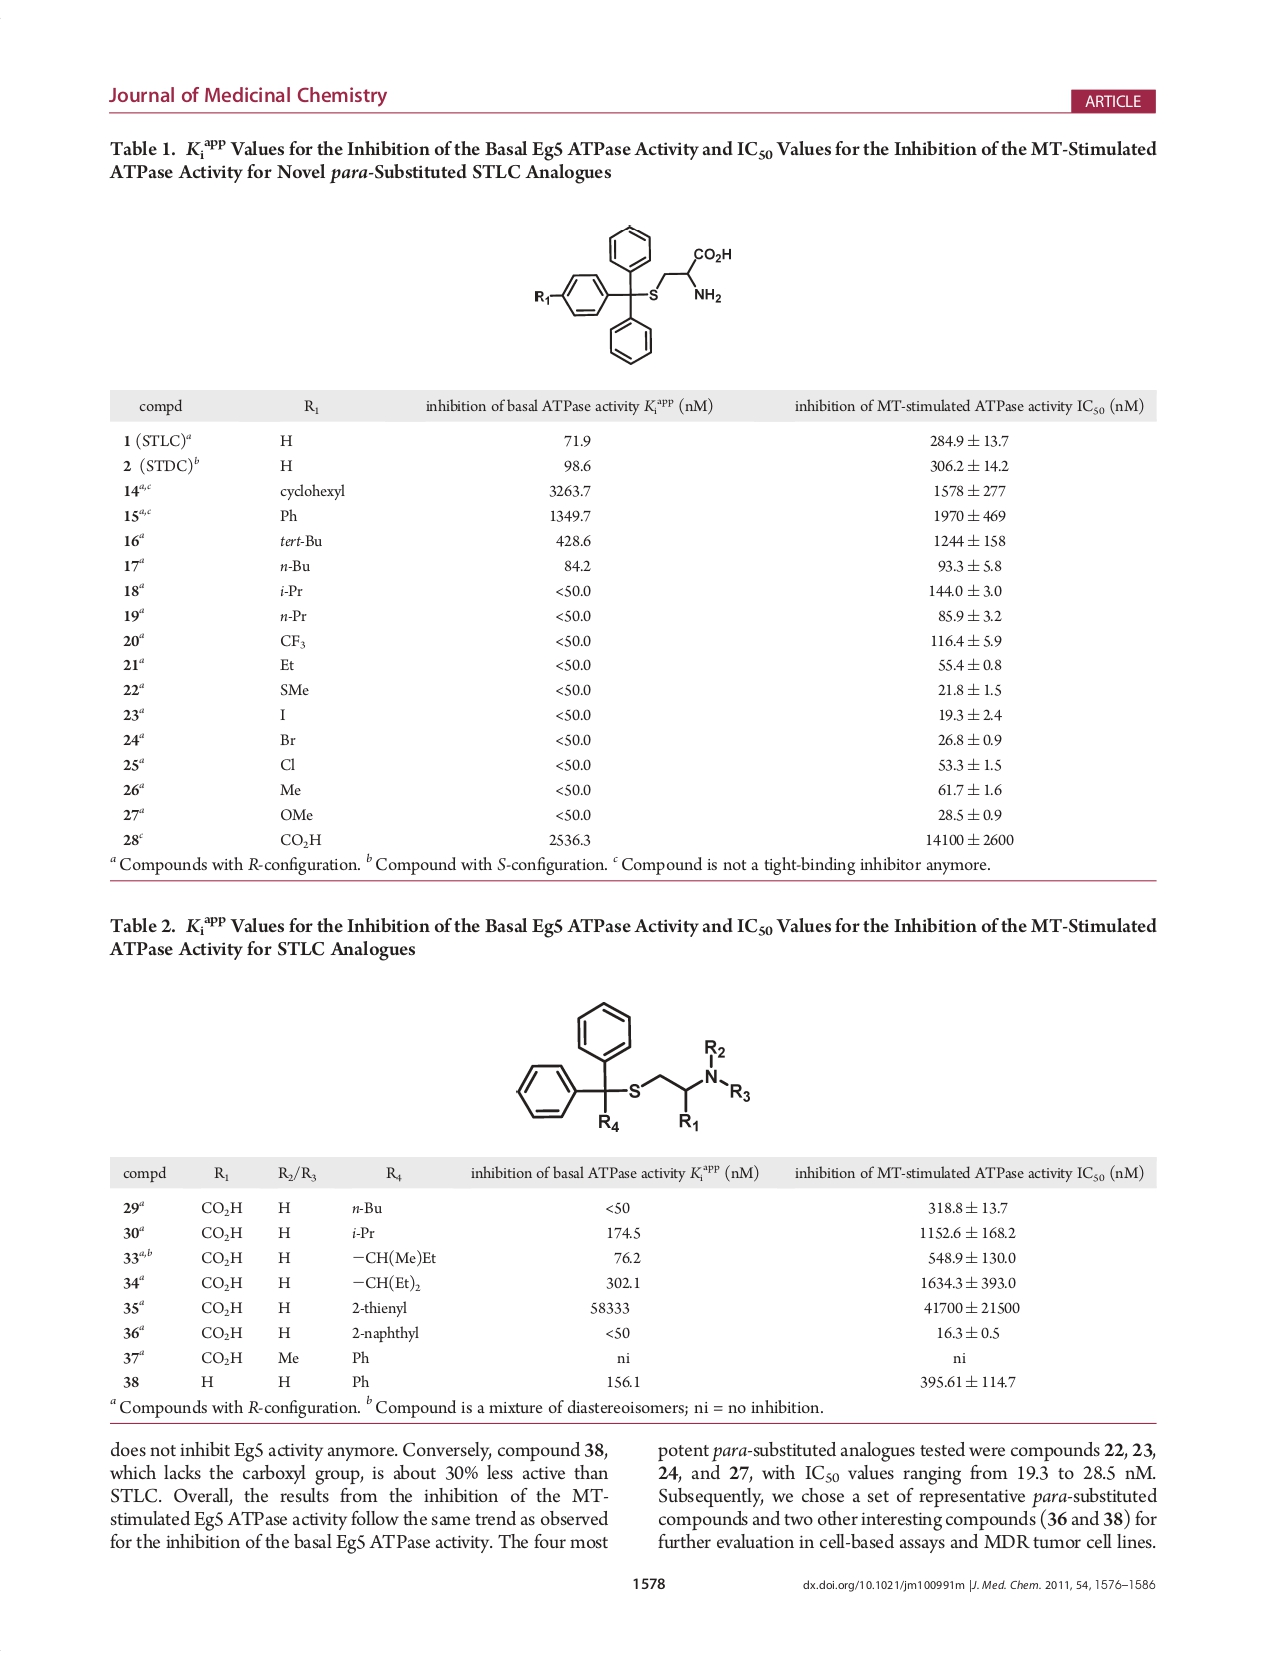exist_molecular: (511, 997, 762, 1137), (533, 221, 739, 371)
